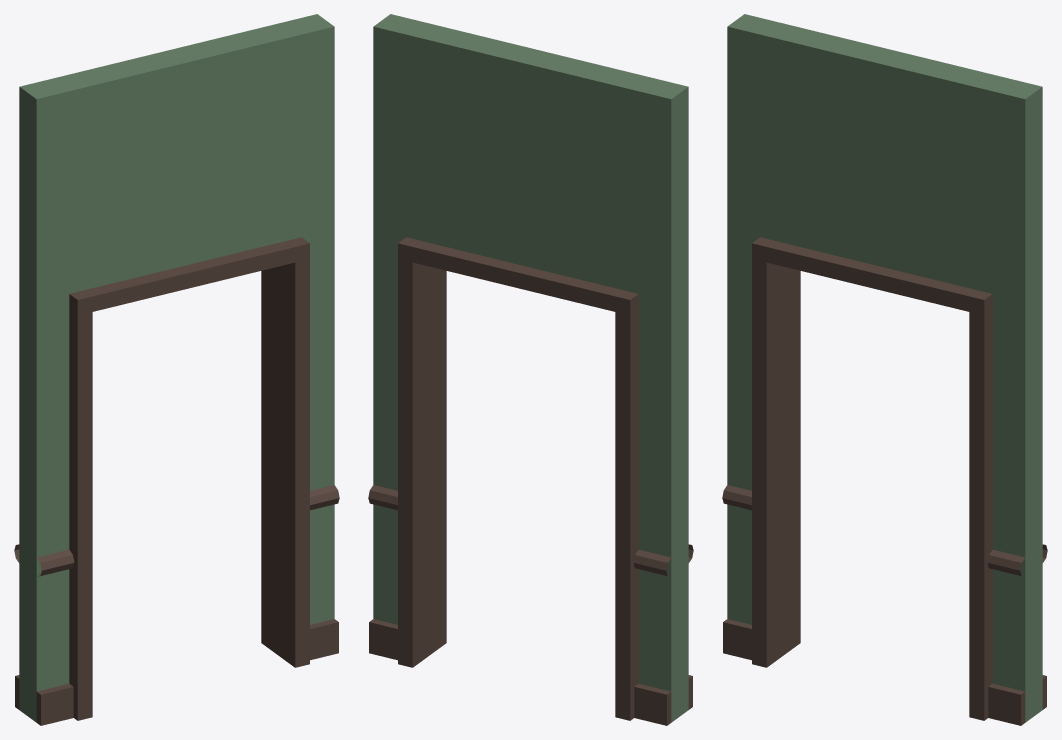
The model's file is h_wall_2_doorFrame_4.fbx.
The picture shows the model from 3 angles, left to right: view 1: azimuth 30°, elevation 25°; view 2: azimuth 150°, elevation 25°; view 3: azimuth 330°, elevation 25°; orthographic projection.
Visible parts, largest first — view 1: Cube; view 2: Cube; view 3: Cube.
Part boxes in pixels (box(x1,y1,x2,y2)): Cube: box(14, 14, 339, 725); Cube: box(368, 14, 693, 725); Cube: box(722, 14, 1047, 725).
Size of the model in its own units: 200 by 400 by 39.37.
